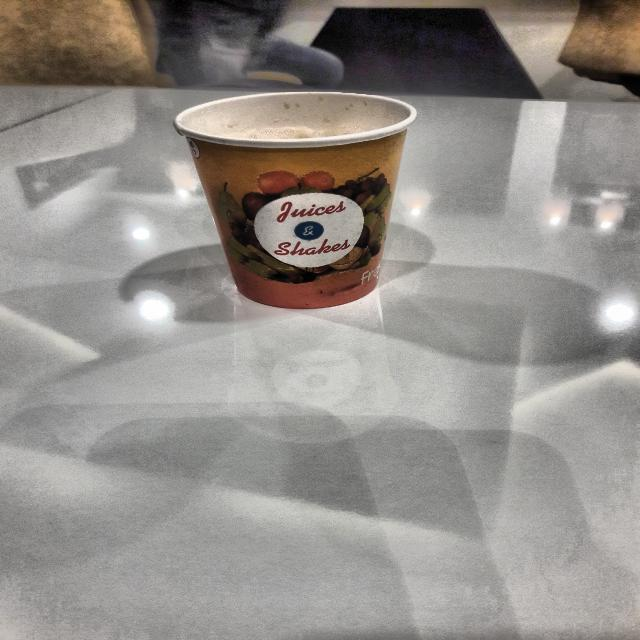anorganik: (174, 91, 417, 313)
